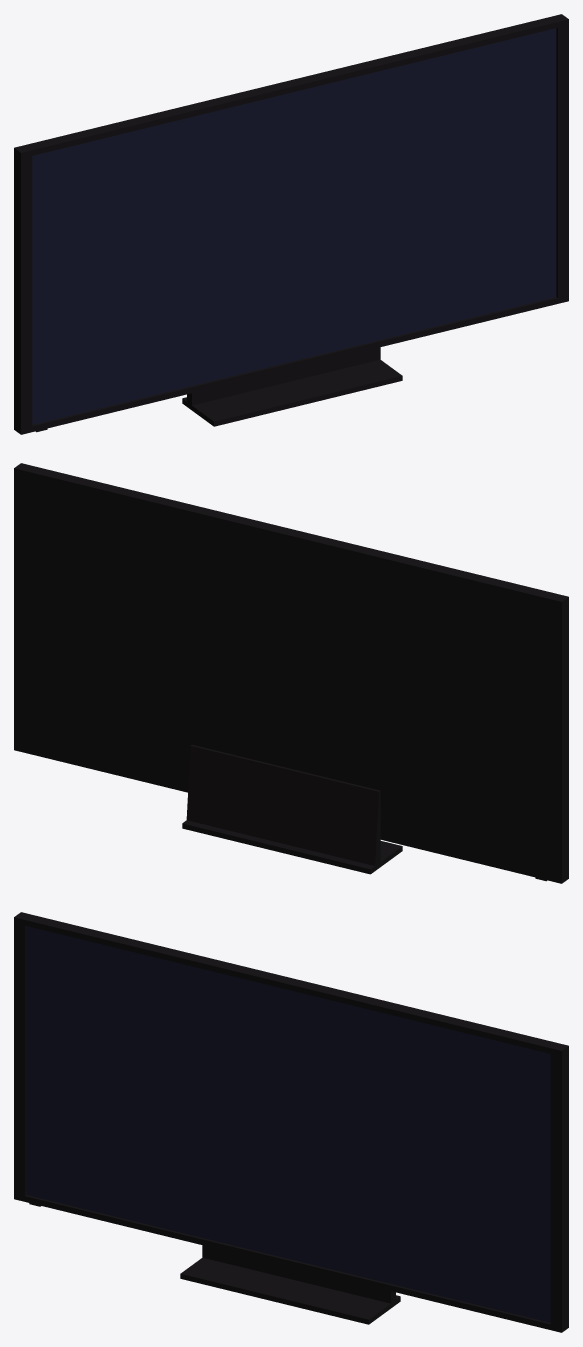
File: tvled.fbx
The picture shows the model from 3 angles, top to bottom: view 1: azimuth 30°, elevation 25°; view 2: azimuth 150°, elevation 25°; view 3: azimuth 330°, elevation 25°; orthographic projection.
Visible parts, largest first — view 1: Cube, Cube.001; view 2: Cube, Cube.001; view 3: Cube, Cube.001.
Boxes of the visible parts, bbox=[...] form: Cube: bbox=[14, 14, 568, 434]; Cube.001: bbox=[182, 347, 402, 426]; Cube: bbox=[14, 463, 568, 883]; Cube.001: bbox=[182, 744, 402, 874]; Cube: bbox=[14, 912, 568, 1332]; Cube.001: bbox=[180, 1245, 400, 1324].
Bounding box in the file's own units: 1604 × 861 × 162.
